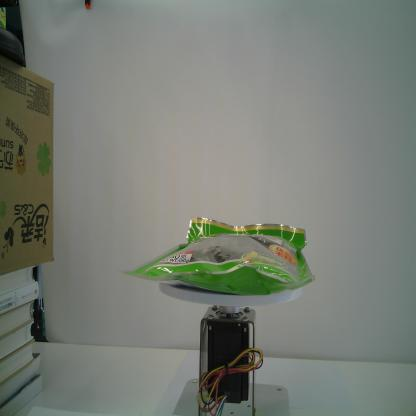Dried Food: (116, 214, 317, 300)
